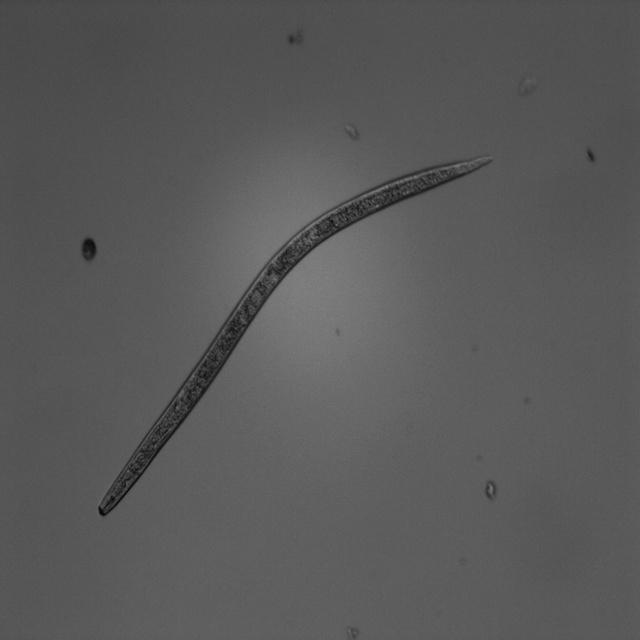Radopholus: (97, 138, 509, 524)
